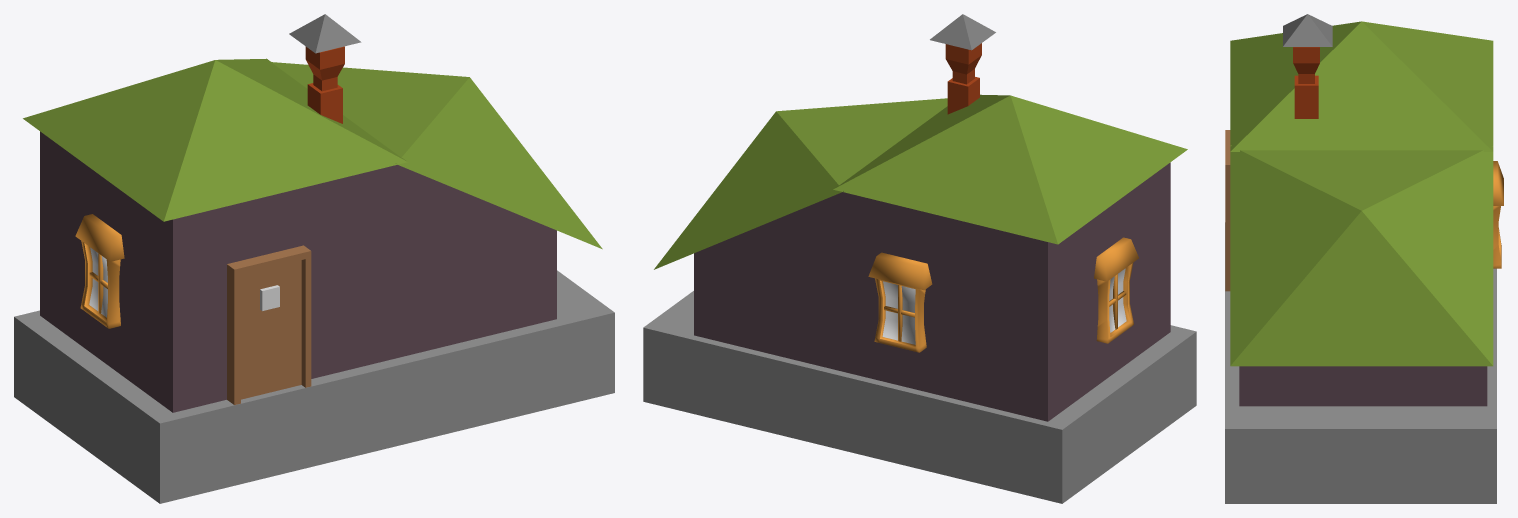
The picture shows the model from 3 angles, left to right: view 1: azimuth 30°, elevation 25°; view 2: azimuth 150°, elevation 25°; view 3: azimuth 270°, elevation 25°; orthographic projection. The views are drawn at different scales.
Parts seen in each view (by area): view 1: Cube.006; view 2: Cube.006; view 3: Cube.006.
Part boxes in pixels (box(x1,y1,x2,y2)): Cube.006: box(14, 14, 614, 503); Cube.006: box(643, 14, 1196, 503); Cube.006: box(1225, 14, 1503, 503).
Size of the model in its own units: 1184 by 1011 by 675.
